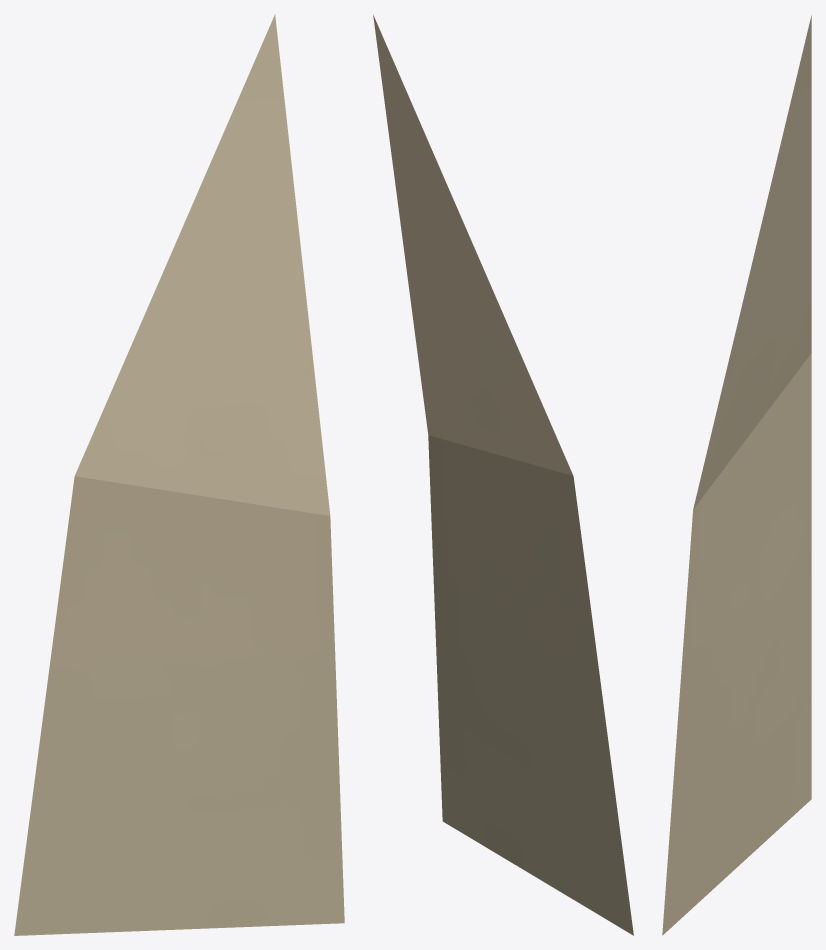
3 views of the same model, side by side, from view 1: azimuth 30°, elevation 25°; view 2: azimuth 150°, elevation 25°; view 3: azimuth 270°, elevation 25° (orthographic). The views are drawn at different scales.
Size of the model in its own units: 0.0497 by 0.1563 by 0.023.
1 material, 1 textured.
